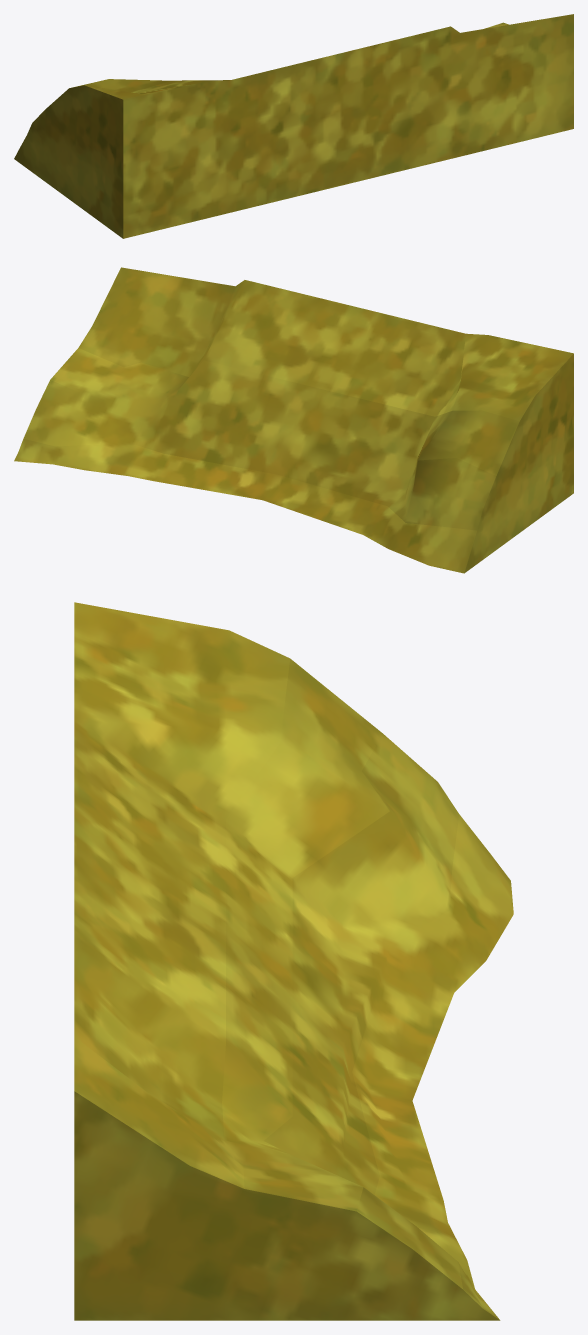
File: grass_slope_long_down_a.fbx
3 views of the same model, one above another, from view 1: azimuth 30°, elevation 25°; view 2: azimuth 150°, elevation 25°; view 3: azimuth 270°, elevation 25° (orthographic). The views are drawn at different scales.
Visible parts, largest first — view 1: desert_grass24; view 2: desert_grass24; view 3: desert_grass24.
Boxes of the visible parts, x1,y1,x2,y2 form: desert_grass24: (14, 14, 573, 238); desert_grass24: (14, 267, 573, 573); desert_grass24: (74, 602, 513, 1320).
Size of the model in its own units: 200 by 59.04 by 84.46.
